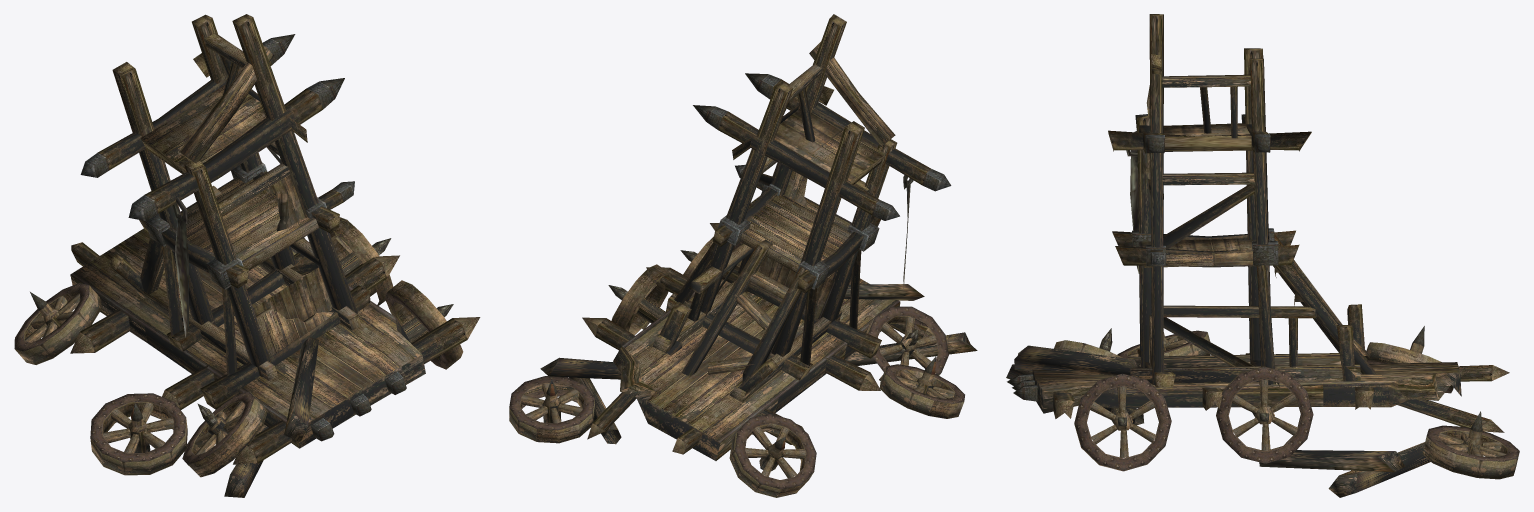
Rendered from S_Build_West017.FBX.
The picture shows the model from 3 angles, left to right: view 1: azimuth 30°, elevation 25°; view 2: azimuth 150°, elevation 25°; view 3: azimuth 270°, elevation 25°; orthographic projection. The views are drawn at different scales.
Visible parts, largest first — view 1: S_Build_West017; view 2: S_Build_West017; view 3: S_Build_West017.
Boxes of the visible parts, box(x1,y1,x2,y2) form: S_Build_West017: box(14, 14, 480, 497); S_Build_West017: box(509, 14, 977, 497); S_Build_West017: box(1006, 14, 1519, 497).
Bounding box in the file's own units: 1047 × 1321 × 1180.
